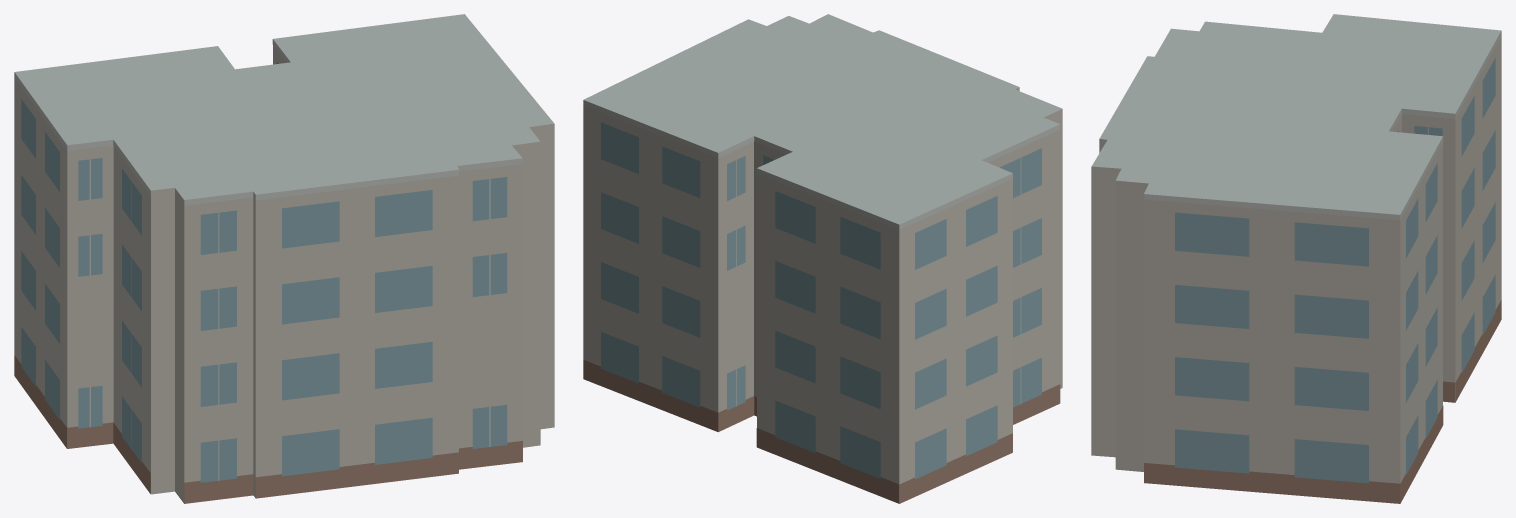
The model's file is survey-upis-32925241.glb.
The picture shows the model from 3 angles, left to right: view 1: azimuth 30°, elevation 25°; view 2: azimuth 150°, elevation 25°; view 3: azimuth 270°, elevation 25°; orthographic projection. The views are drawn at different scales.
Visible parts, largest first — view 1: survey-upis-32925241.tmp; view 2: survey-upis-32925241.tmp; view 3: survey-upis-32925241.tmp.
Boxes of the visible parts, <box> form: survey-upis-32925241.tmp: <box>14,14,554,503</box>; survey-upis-32925241.tmp: <box>583,14,1062,503</box>; survey-upis-32925241.tmp: <box>1091,14,1501,503</box>.
Bounding box in the file's own units: 19.23 × 12.9 × 16.6.
